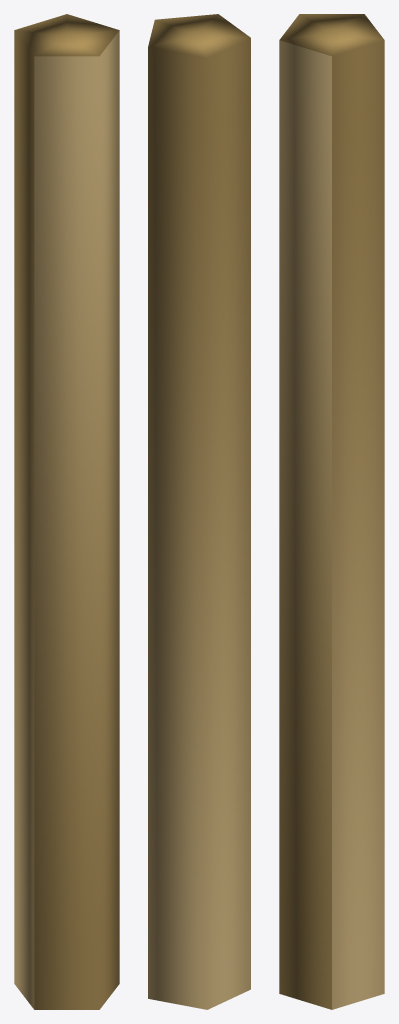
Rendered from FencePost.fbx.
3 renders of one model, left to right at view 1: azimuth 90°, elevation 25°; view 2: azimuth 210°, elevation 25°; view 3: azimuth 270°, elevation 25°, orthographic.
Parts seen in each view (by area): view 1: pCylinder1; view 2: pCylinder1; view 3: pCylinder1.
Part boxes in pixels (x1,y1,x2,y2): pCylinder1: [14, 14, 119, 1009]; pCylinder1: [148, 14, 250, 1009]; pCylinder1: [279, 14, 384, 1009].
Bounding box in the file's own units: 0.0953 × 1 × 0.1002.
Materials: 1 (1 with a texture image).
